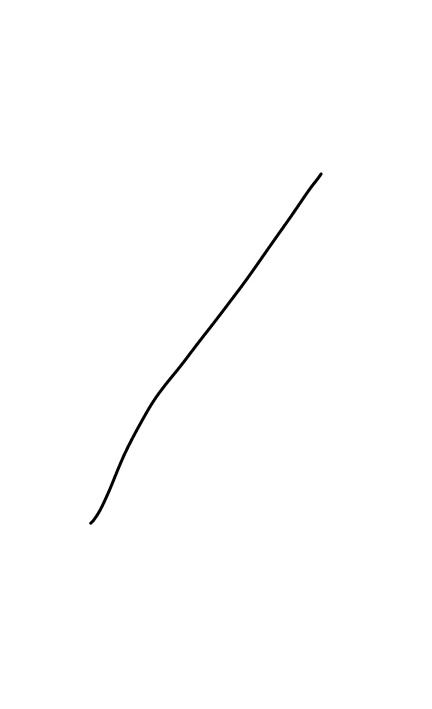Line: (84, 167, 326, 533)
